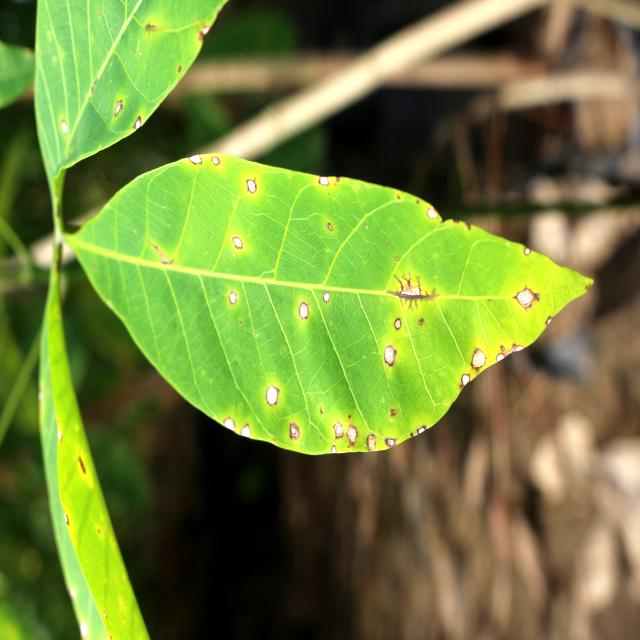Colletotrichum: (516, 288, 534, 308), (472, 348, 486, 369), (266, 386, 279, 406), (384, 346, 396, 366), (347, 425, 358, 446), (299, 302, 309, 320), (290, 423, 300, 440), (334, 422, 344, 439), (366, 435, 376, 451), (241, 423, 251, 439), (247, 178, 257, 194), (223, 418, 234, 431), (233, 236, 243, 248), (115, 100, 122, 117), (229, 291, 237, 304), (134, 116, 141, 129), (385, 439, 396, 447), (462, 374, 469, 386), (212, 156, 220, 166), (394, 319, 401, 330), (323, 293, 330, 303), (524, 247, 531, 256), (328, 223, 332, 230)
Corynespora: (386, 272, 440, 311)
